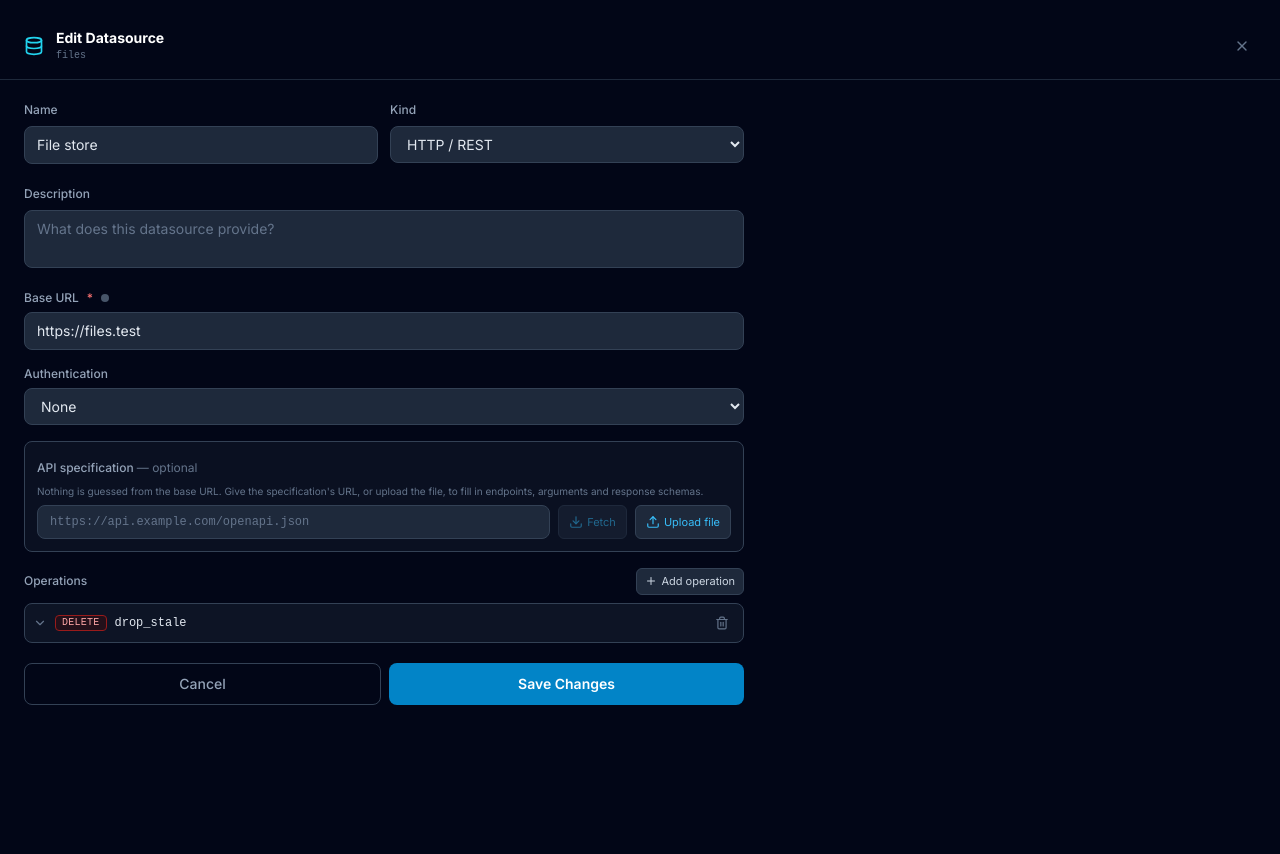
Try run on a destructive operation › cancelling sends nothing and clears the prompt
The image size is (1280, 854).
Click the text "drop_stale" at (150, 622), box [114,614,186,630]
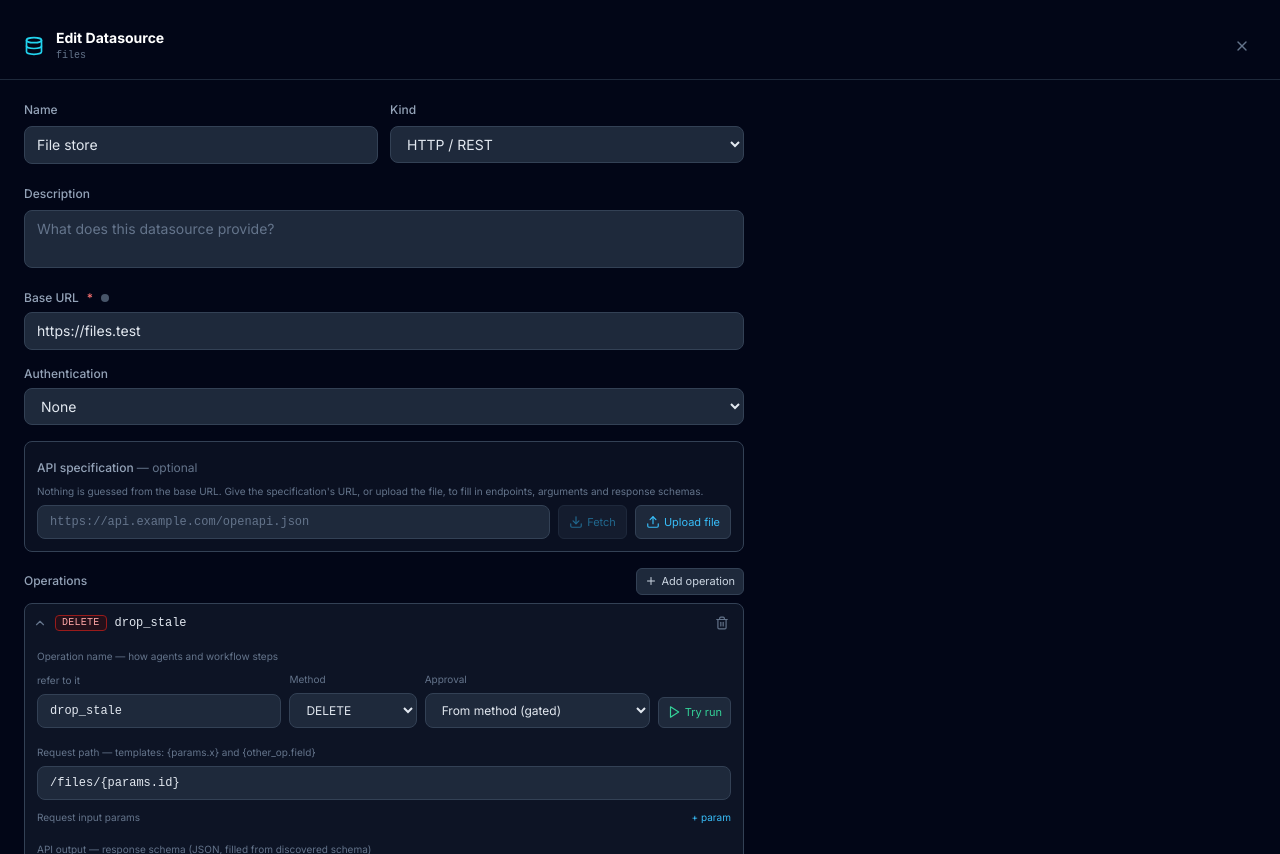
Click the button "Try run" at (694, 712), box [658,697,731,728]
(page scrolled)
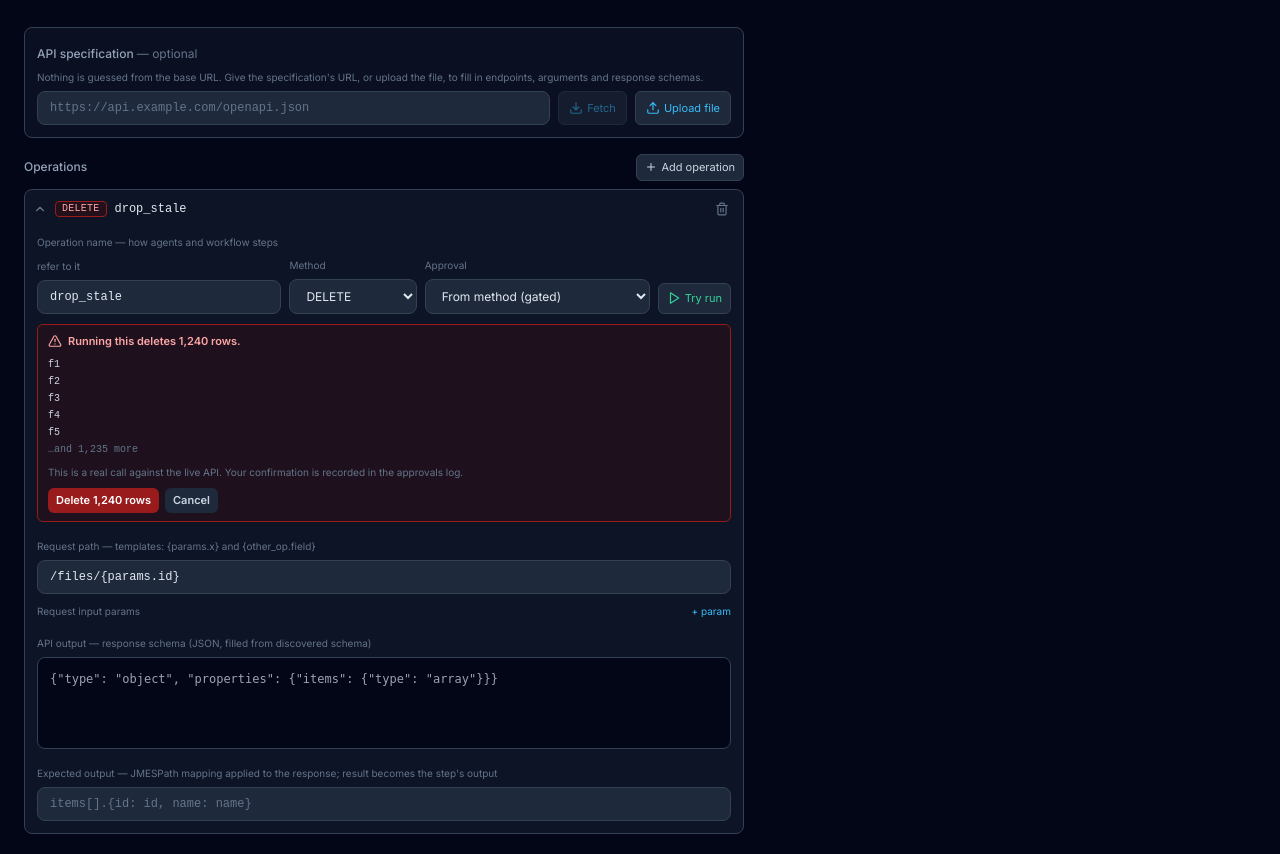
Click the button "Cancel" below "…and" at (192, 500), box [165,488,218,512]
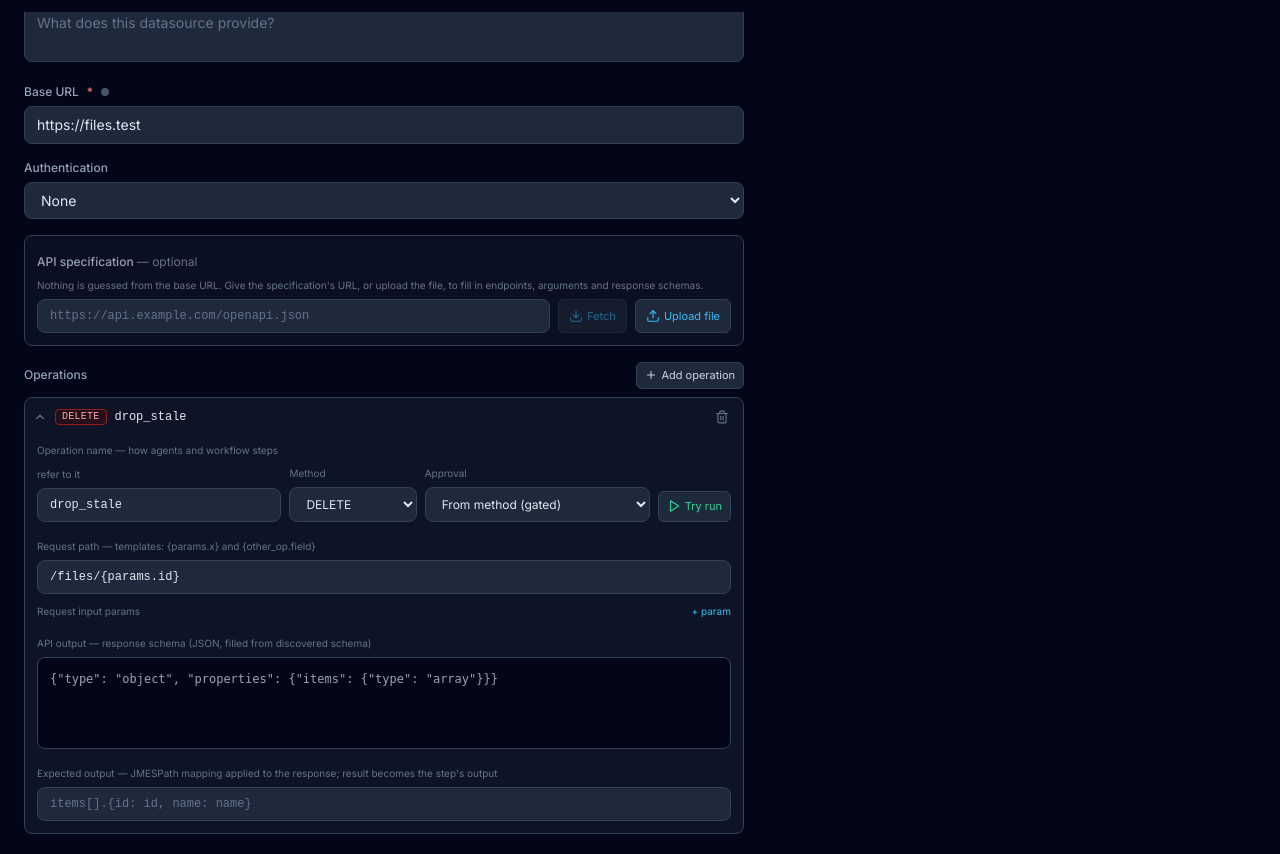
Result: the text "Running this deletes 1,240 rows." is gone
